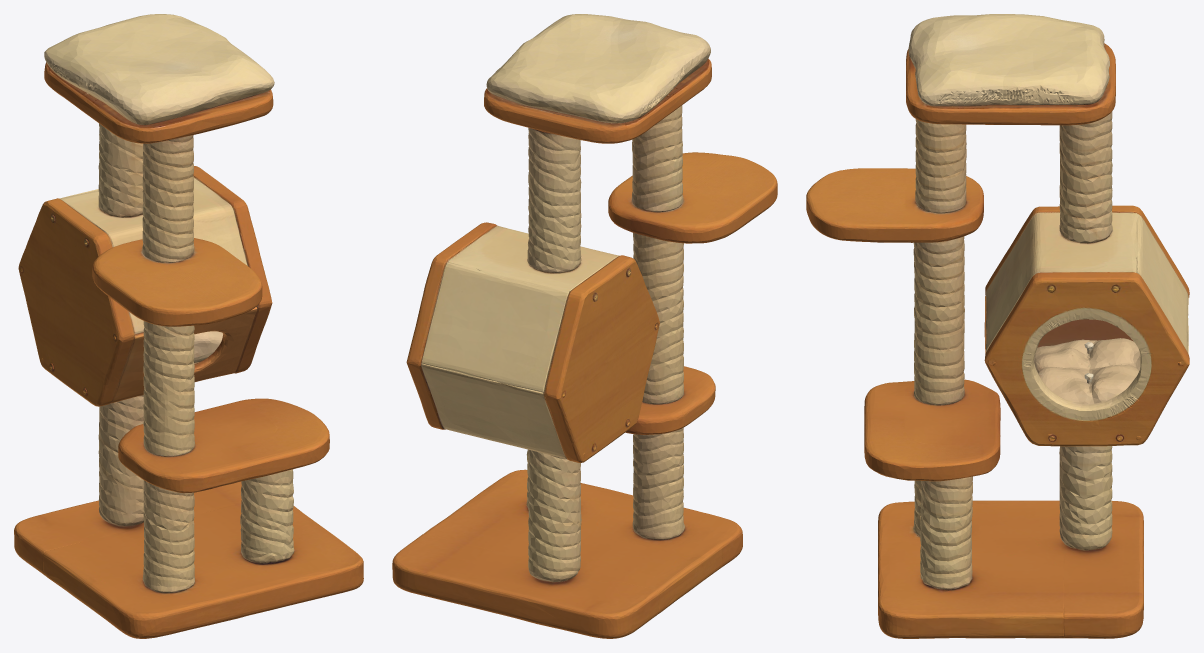
The model's file is DOM_kotik_7__base.glb.
The picture shows the model from 3 angles, left to right: view 1: azimuth 30°, elevation 25°; view 2: azimuth 150°, elevation 25°; view 3: azimuth 270°, elevation 25°; orthographic projection.
Parts seen in each view (by area): view 1: tripo_node_6a6f5a7a-5f87-416d-85f8-acb2c2860e7f; view 2: tripo_node_6a6f5a7a-5f87-416d-85f8-acb2c2860e7f; view 3: tripo_node_6a6f5a7a-5f87-416d-85f8-acb2c2860e7f.
Boxes of the visible parts, x1=… form: tripo_node_6a6f5a7a-5f87-416d-85f8-acb2c2860e7f: x1=14, y1=14, x2=363, y2=638; tripo_node_6a6f5a7a-5f87-416d-85f8-acb2c2860e7f: x1=392, y1=14, x2=777, y2=638; tripo_node_6a6f5a7a-5f87-416d-85f8-acb2c2860e7f: x1=806, y1=14, x2=1189, y2=638.
Size of the model in its own units: 0.4811 by 0.9791 by 0.6468.
Materials: 1 (1 with a texture image).
